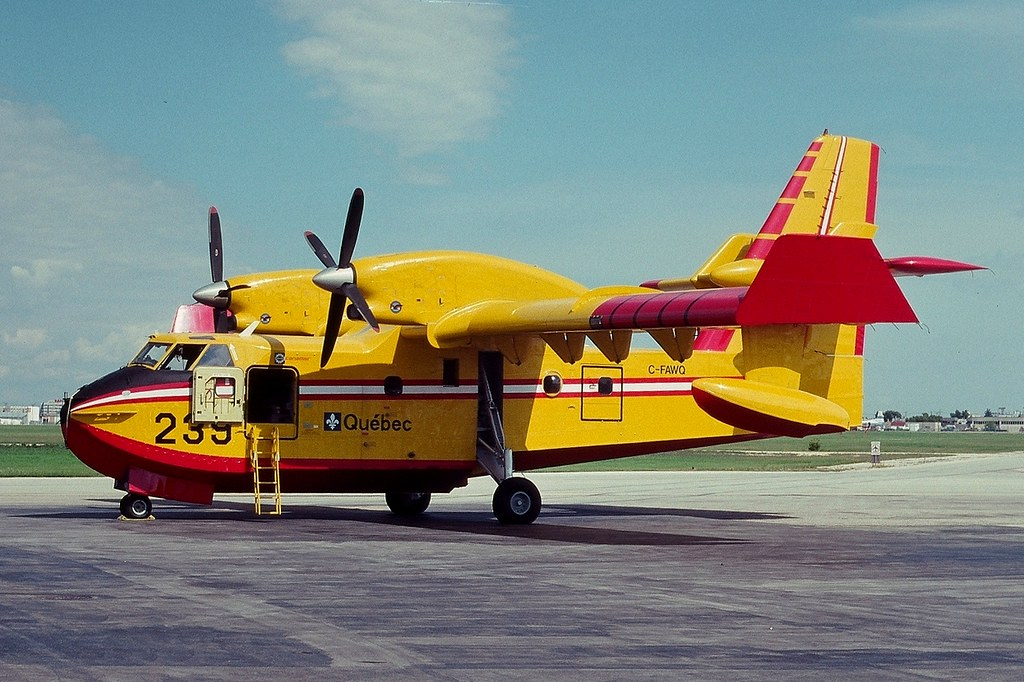Aeronef_de_service: (50, 118, 993, 545)
